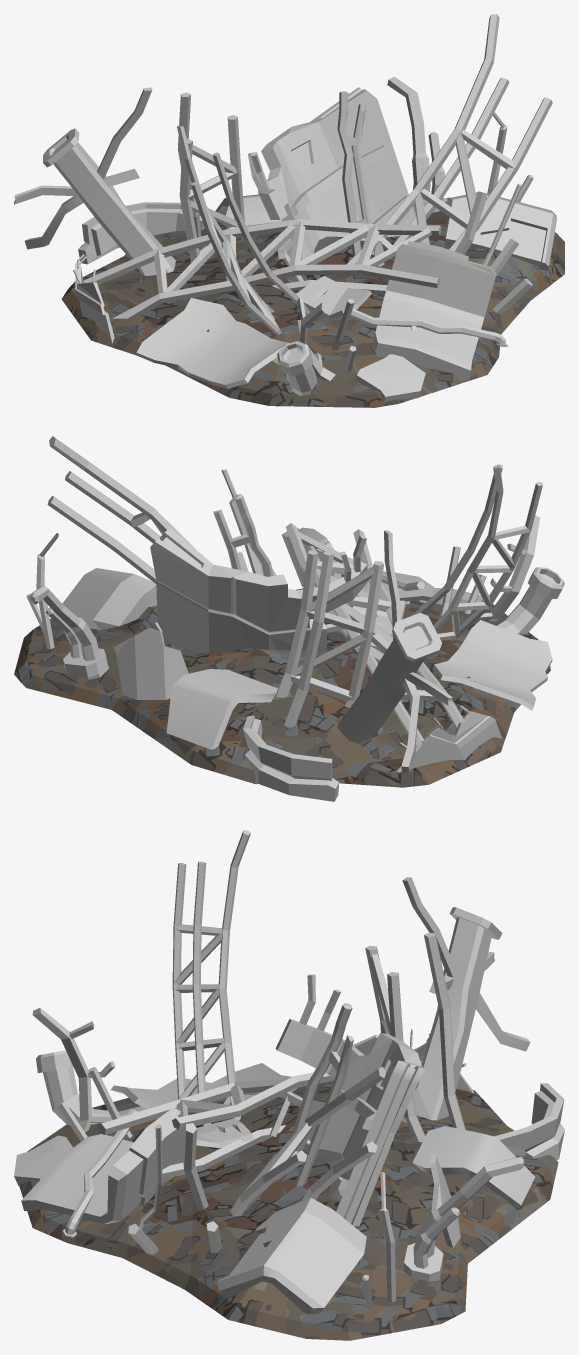
File: SM_Prop_Scav_Scrap_Pile_04.fbx
3 renders of one model, top to bottom at view 1: azimuth 30°, elevation 25°; view 2: azimuth 150°, elevation 25°; view 3: azimuth 270°, elevation 25°, orthographic. The views are drawn at different scales.
Visible parts, largest first — view 1: SM_Prop_Scav_Scrap_Pile_04; view 2: SM_Prop_Scav_Scrap_Pile_04; view 3: SM_Prop_Scav_Scrap_Pile_04.
Boxes of the visible parts, left/top/right/bottom form: SM_Prop_Scav_Scrap_Pile_04: left=14, top=14, right=564, bottom=407; SM_Prop_Scav_Scrap_Pile_04: left=14, top=436, right=564, bottom=801; SM_Prop_Scav_Scrap_Pile_04: left=14, top=830, right=564, bottom=1340.
Bounding box in the file's own units: 2294 × 1121 × 1975.
